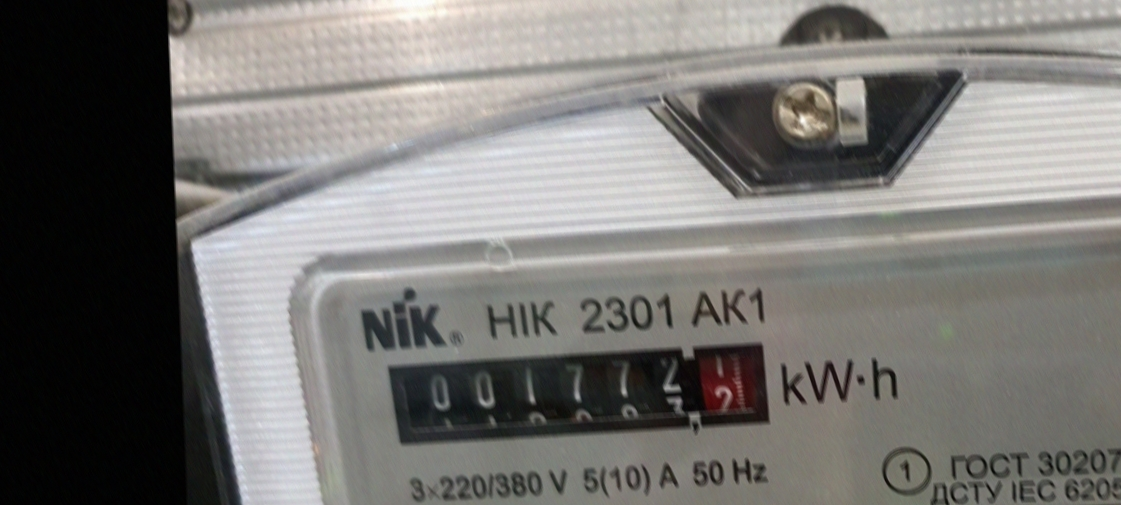0: (423, 370, 451, 412), (470, 368, 494, 408)
1: (519, 365, 537, 405), (710, 354, 724, 380)
2: (656, 357, 680, 394), (708, 383, 732, 413)
3: (662, 395, 685, 416)
7: (561, 362, 585, 403), (608, 359, 630, 398)
screen: (374, 332, 785, 456)
